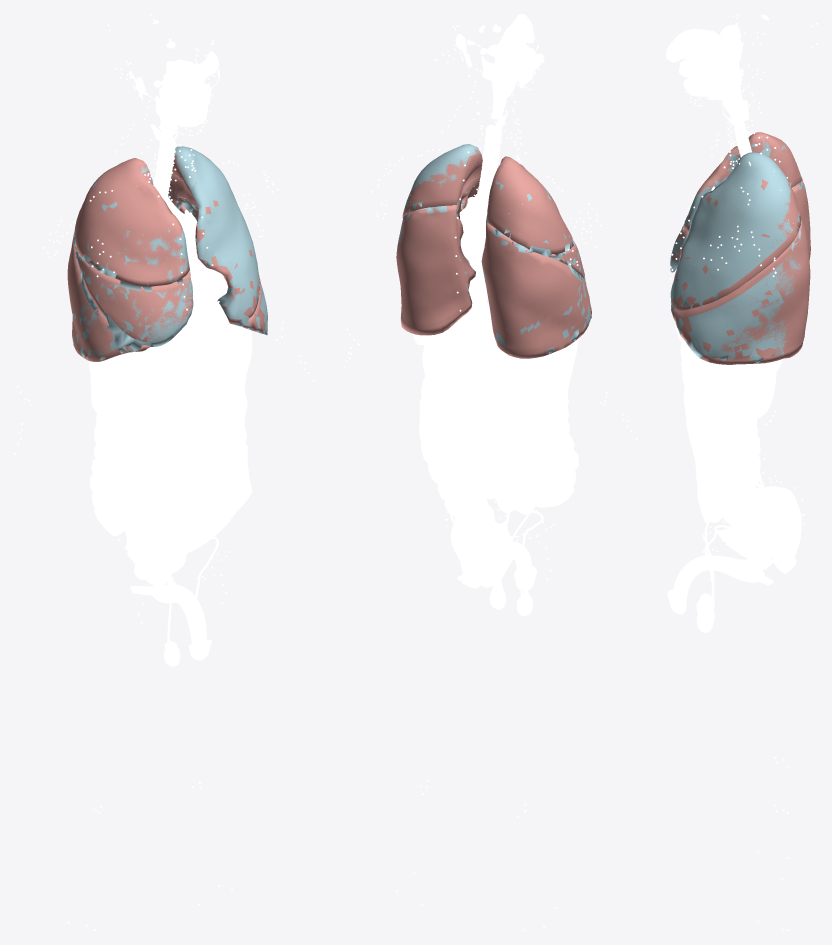
File: organs.glb
3 renders of one model, left to right at view 1: azimuth 30°, elevation 25°; view 2: azimuth 150°, elevation 25°; view 3: azimuth 270°, elevation 25°, orthographic. The views are drawn at different scales.
Visible parts, largest first — view 1: organs; view 2: organs; view 3: organs.
Boxes of the visible parts, x1,y1,x2,y2 form: organs: [14, 14, 314, 930]; organs: [343, 14, 637, 930]; organs: [666, 14, 817, 930].
Bounding box in the file's own units: 0.4523 × 1.3 × 0.2012.
